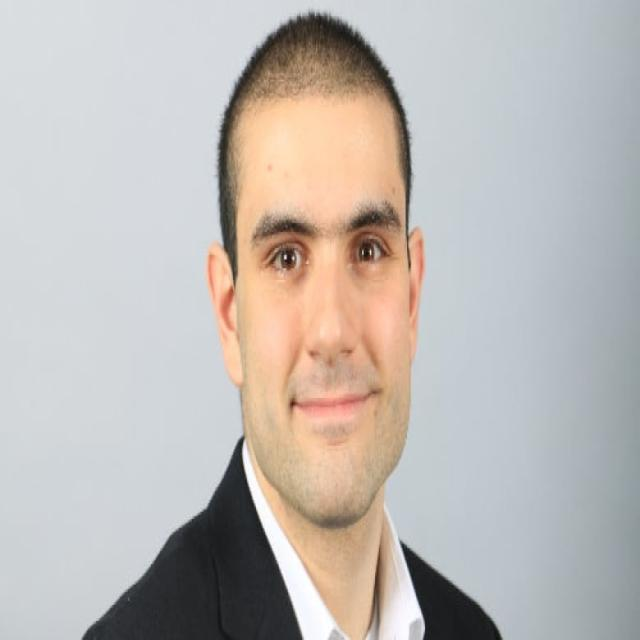mobile_phonerotation: (80, 9, 506, 637)
